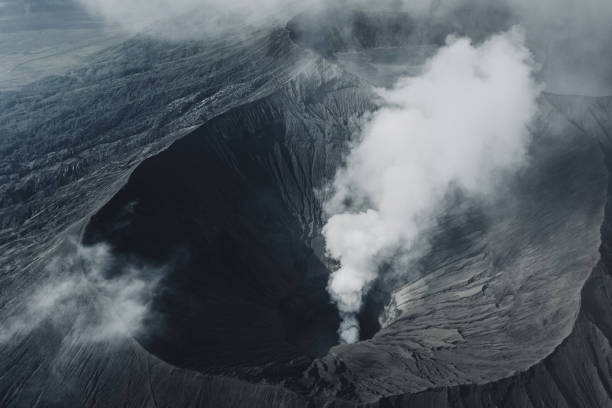smoke: (325, 42, 537, 325), (23, 238, 155, 349)
